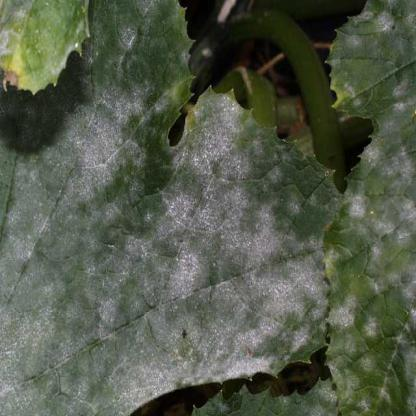squash powdery mildew leaf: (2, 1, 340, 412)
